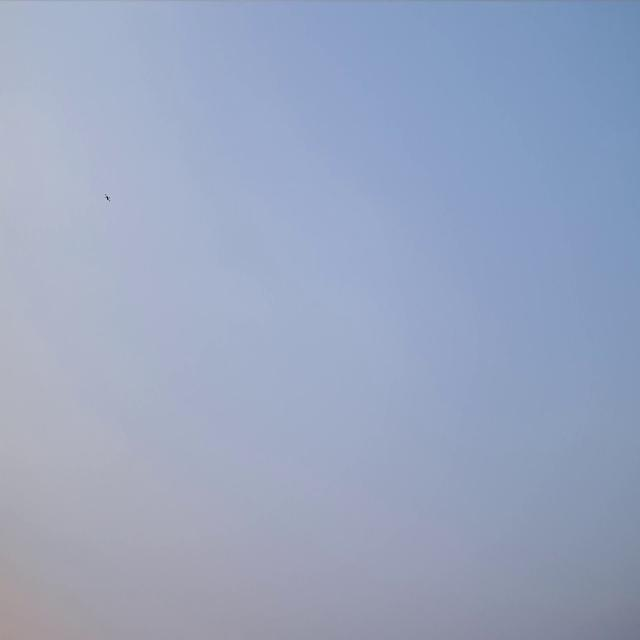UAV: (104, 194, 110, 202)
